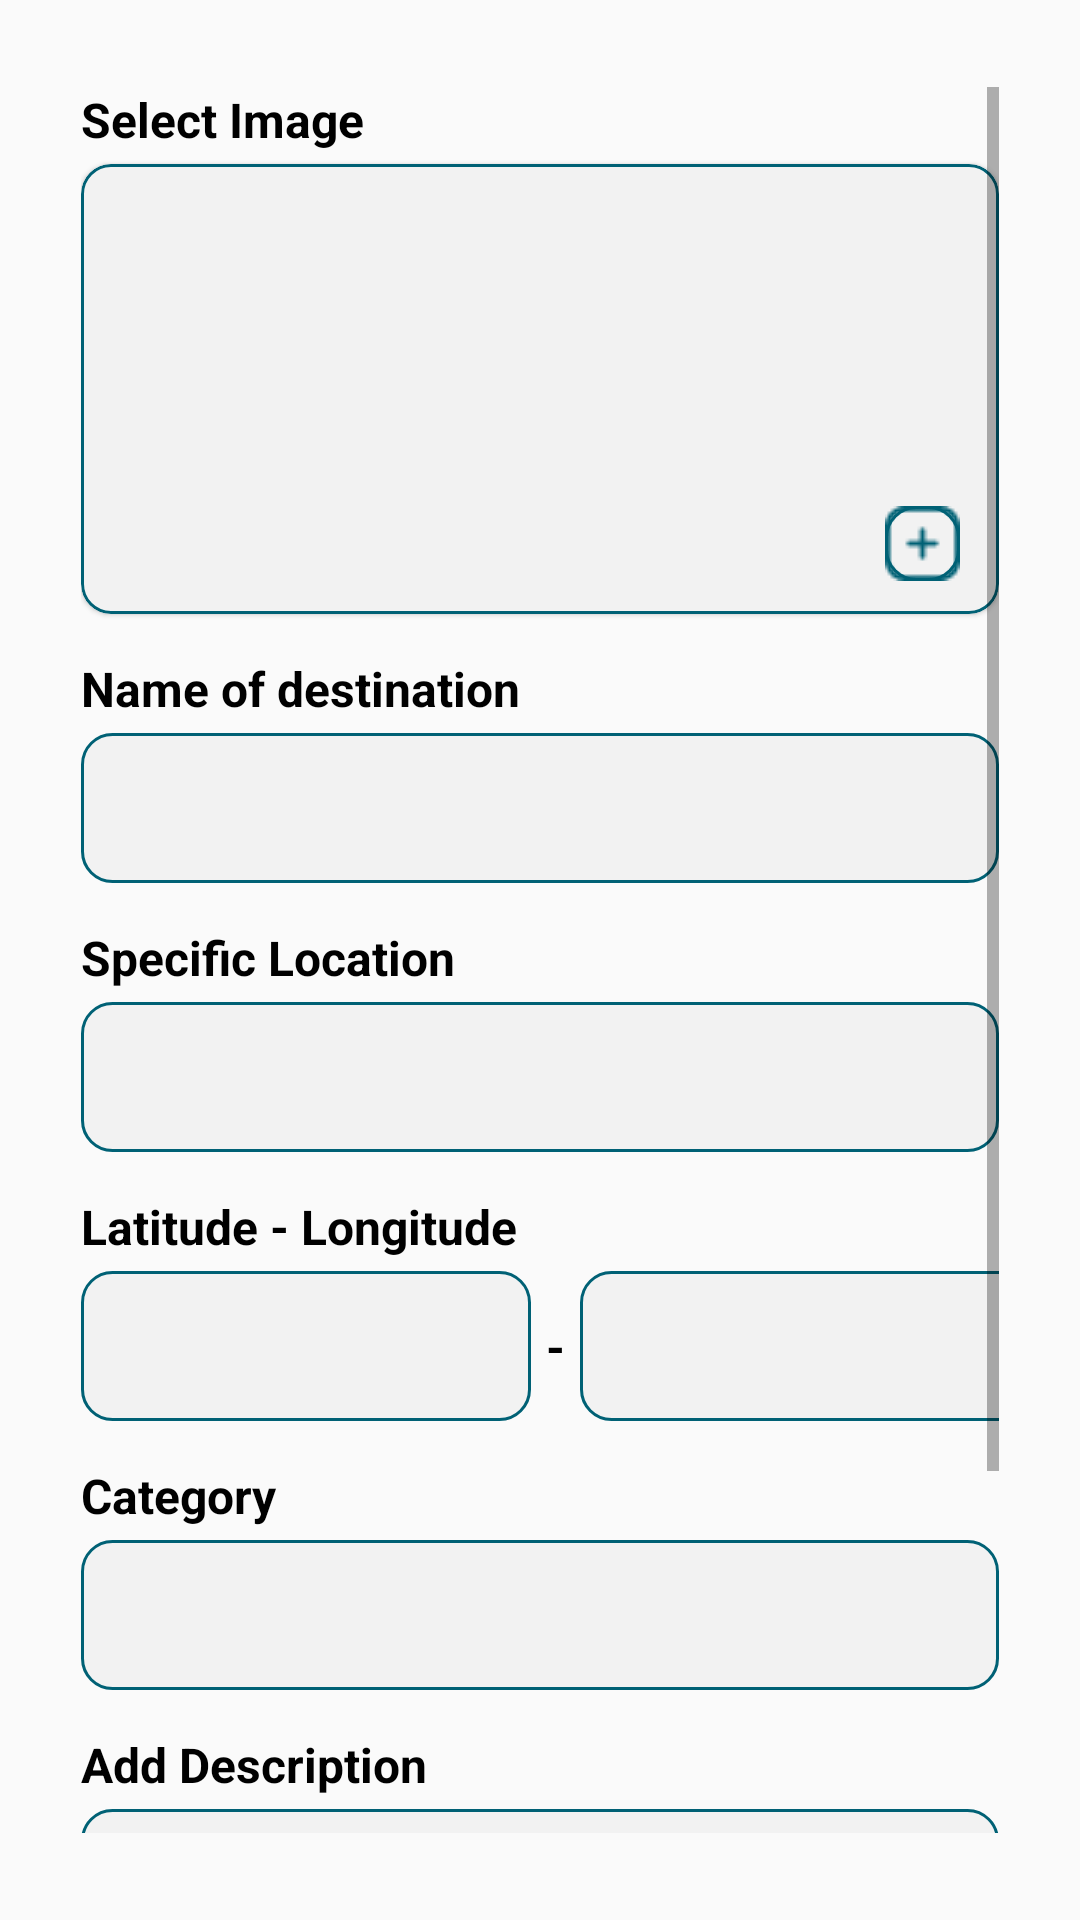

Locate icon controls on the screen. Image size 1080 × 1920, boxes as (x1, y1, x2, y2).
add shape: (885, 506, 960, 581)
